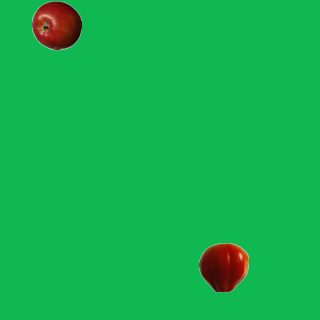Apple Braeburn: (31, 0, 81, 50)
Tomato 1: (198, 242, 248, 292)
